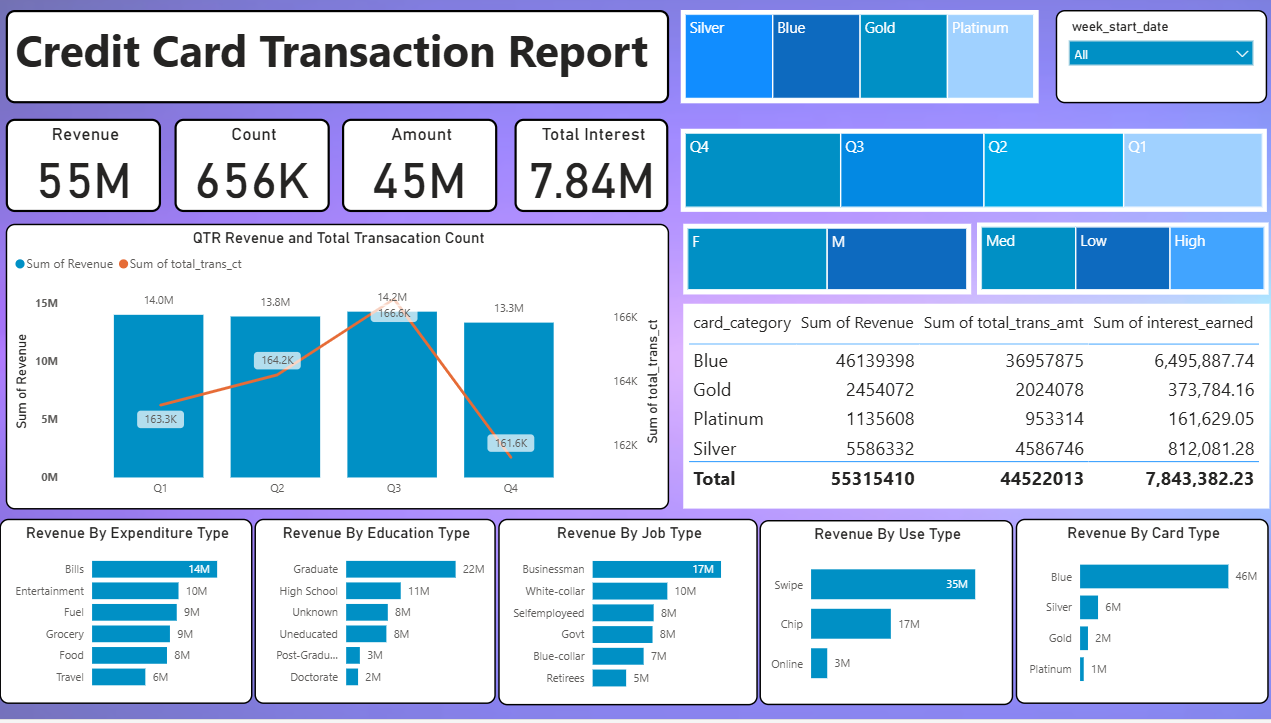

This screenshot's page, from the dashboard's own definition file:
{"tool":"powerbi","page":{"name":"Credit Card Transaction Report","canvas":[1400,800],"ordinal":1},"visuals":[{"type":"textbox","box":[9.5,21.8,728,102.3],"z":0},{"type":"lineStackedColumnComboChart","title":"QTR Revenue and Total Transacation Count","fields":{"Category":["public cc_detail.qtr"],"Y":["Sum(public cc_detail.Revenue)"],"Y2":["Sum(public cc_detail.total_trans_ct)"]},"box":[9.5,256.3,728,313.6],"z":1000},{"type":"barChart","title":"Revenue By Expenditure Type","fields":{"Category":["public cc_detail.exp_type"],"Y":["Sum(public cc_detail.Revenue)"]},"box":[2.8,580.5,277.8,203.2],"z":2000},{"type":"barChart","title":"Revenue By Education Type","fields":{"Category":["public cust_detail.education_level"],"Y":["Sum(public cc_detail.Revenue)"]},"box":[282.2,580.8,264.5,203.1],"z":3000},{"type":"barChart","title":"Revenue By Job Type","fields":{"Category":["public cust_detail.customer_job"],"Y":["Sum(public cc_detail.Revenue)"]},"box":[549.4,580.8,284.9,204.5],"z":4000},{"type":"barChart","title":"Revenue By Card Type","fields":{"Category":["public cc_detail.card_category"],"Y":["Sum(public cc_detail.Revenue)"]},"box":[1118.2,580.5,277.8,203.2],"z":5000},{"type":"barChart","title":"Revenue By Use Type","fields":{"Category":["public cc_detail.use_chip"],"Y":["Sum(public cc_detail.Revenue)"]},"box":[837.1,582.1,278.1,203.1],"z":6000},{"type":"tableEx","fields":{"Values":["public cc_detail.card_category","Sum(public cc_detail.Revenue)","Sum(public cc_detail.total_trans_amt)","Sum(public cc_detail.interest_earned)"]},"box":[752.6,344.9,643.5,225],"z":7000},{"type":"card","title":"Revenue","fields":{"Values":["Sum(public cc_detail.Revenue)"]},"box":[9.5,141.8,170.4,102.3],"z":8000},{"type":"card","title":"Count","fields":{"Values":["Sum(public cc_detail.total_trans_ct)"]},"box":[195,141.8,170.4,102.3],"z":9000},{"type":"card","title":"Amount","fields":{"Values":["Sum(public cc_detail.total_trans_amt)"]},"box":[379,141.8,170.4,102.3],"z":10000},{"type":"card","title":"Total Interest","fields":{"Values":["Sum(public cc_detail.interest_earned)"]},"box":[568.5,141.8,169.1,102.3],"z":11000},{"type":"slicer","fields":{"Values":["public cc_detail.week_start_date"]},"box":[1161.6,21.8,231.8,102.3],"z":12000},{"type":"treemap","fields":{"Group":["public cc_detail.qtr"],"Values":["Avg(public cust_detail.client_num)"]},"box":[749.8,152.7,643.5,91.3],"z":13000},{"type":"treemap","fields":{"Group":["public cust_detail.gender"],"Values":["Avg(public cust_detail.client_num)"]},"box":[752.6,256.3,316.3,77.7],"z":14000},{"type":"treemap","fields":{"Values":["Avg(public cust_detail.client_num)"],"Group":["public cc_detail.card_category"]},"box":[749.8,21.8,392.6,102.3],"z":15000},{"type":"treemap","fields":{"Values":["Avg(public cust_detail.client_num)"],"Group":["public cust_detail.IncomeGroup"]},"box":[1075.7,254.9,320.4,79.1],"z":16000}]}

Visuals, with their boxes in screenshot pixels (x1, y1, x2, y2), scaled from the page's 1400x800 canvas onto the 1271x723 screenshot:
textbox: (9,20,670,112)
"QTR Revenue and Total Transacation Count" lineStackedColumnComboChart: (9,232,670,515)
"Revenue By Expenditure Type" barChart: (3,525,255,708)
"Revenue By Education Type" barChart: (256,525,496,708)
"Revenue By Job Type" barChart: (499,525,757,710)
"Revenue By Card Type" barChart: (1015,525,1267,708)
"Revenue By Use Type" barChart: (760,526,1012,710)
tableEx - public cc_detail.card_category x Sum(public cc_detail.Revenue): (683,312,1267,515)
"Revenue" card: (9,128,163,221)
"Count" card: (177,128,332,221)
"Amount" card: (344,128,499,221)
"Total Interest" card: (516,128,670,221)
slicer - public cc_detail.week_start_date: (1055,20,1265,112)
treemap - public cc_detail.qtr x Avg(public cust_detail.client_num): (681,138,1265,221)
treemap - public cust_detail.gender x Avg(public cust_detail.client_num): (683,232,970,302)
treemap - Avg(public cust_detail.client_num) x public cc_detail.card_category: (681,20,1037,112)
treemap - Avg(public cust_detail.client_num) x public cust_detail.IncomeGroup: (977,230,1267,302)
